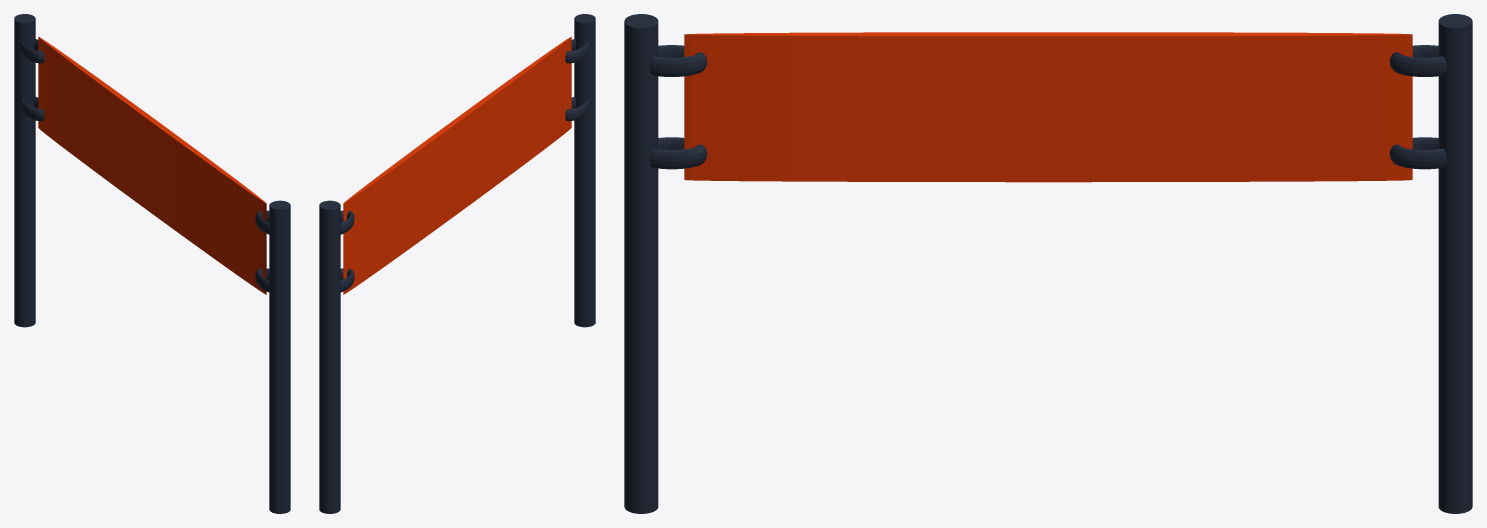
The model's file is FinishLine.fbx.
The picture shows the model from 3 angles, left to right: view 1: azimuth 30°, elevation 25°; view 2: azimuth 150°, elevation 25°; view 3: azimuth 270°, elevation 25°; orthographic projection. The views are drawn at different scales.
Parts seen in each view (by area): view 1: Torus; view 2: Torus; view 3: Torus.
Boxes of the visible parts, x1,y1,x2,y2 form: Torus: (14, 14, 290, 513); Torus: (319, 14, 595, 513); Torus: (624, 14, 1472, 513).
Bounding box in the file's own units: 36.75 × 527 × 833.
